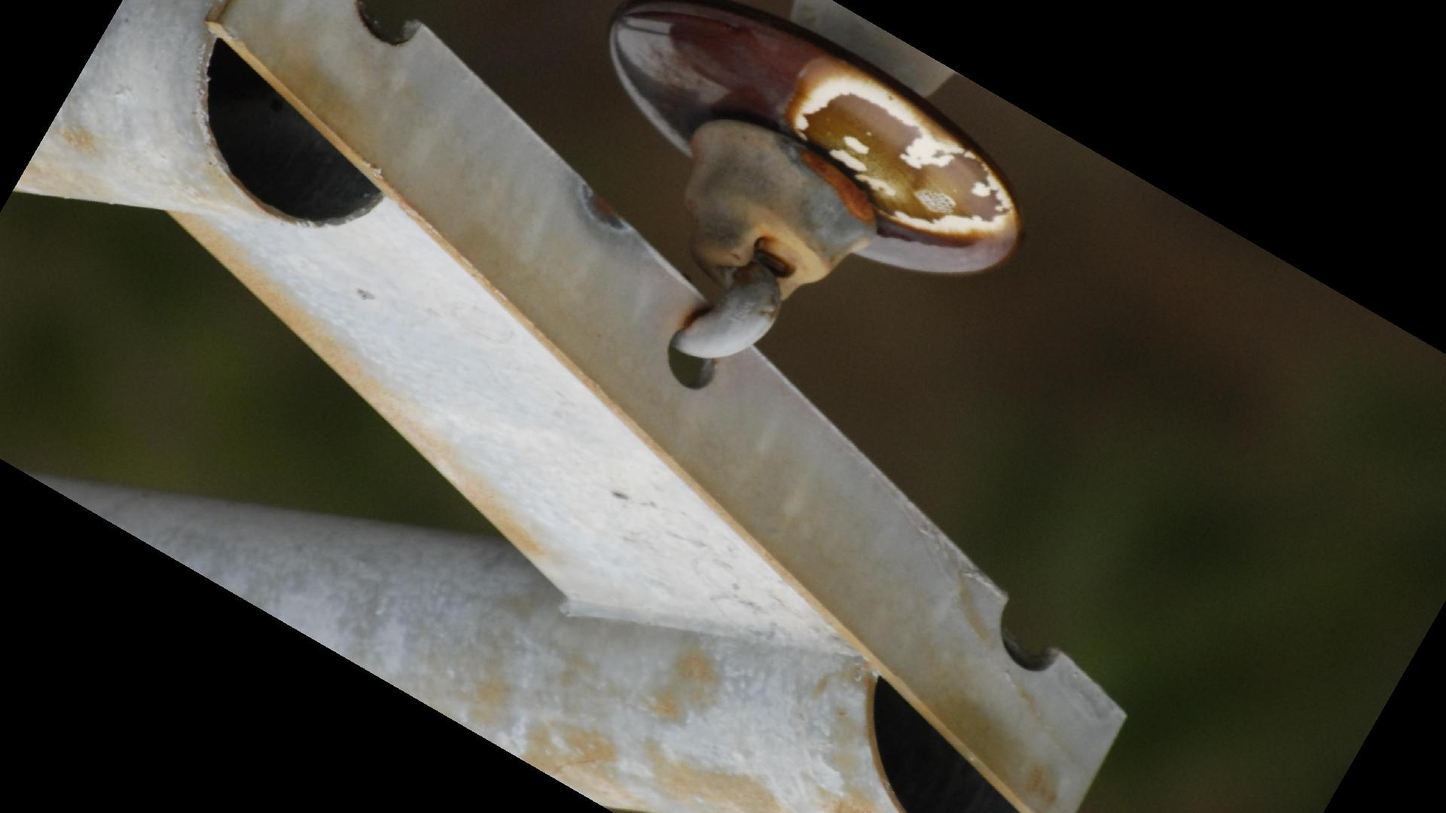insulator: (606, 1, 1033, 288)
insulator_flashover: (787, 69, 1021, 245)
